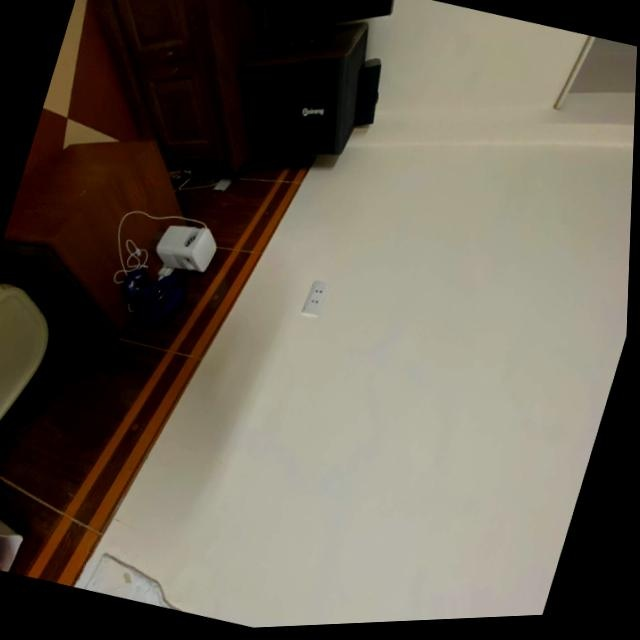outlet: (300, 277, 330, 318)
